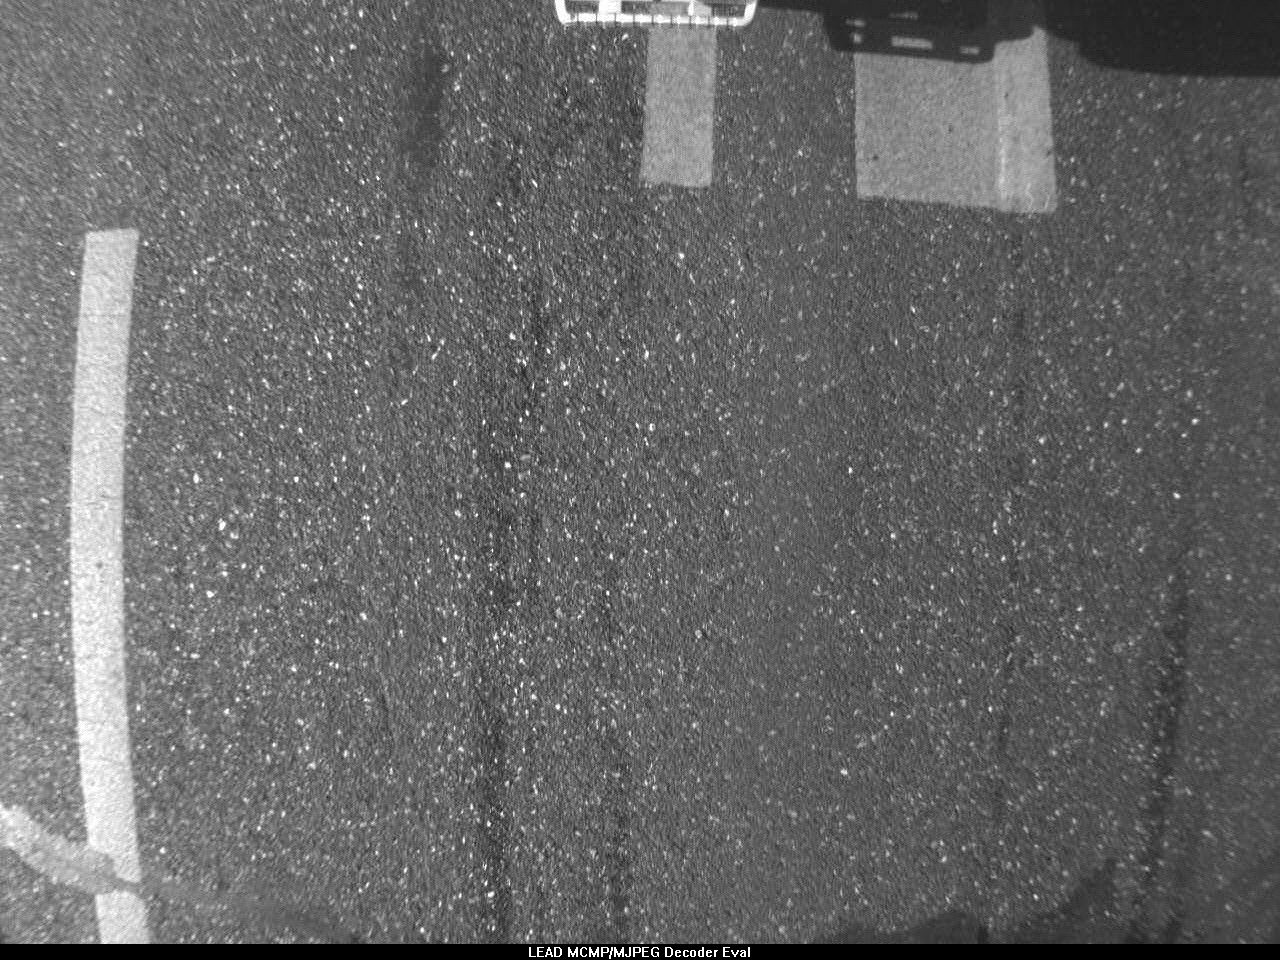sealed: (1, 815, 140, 899)
